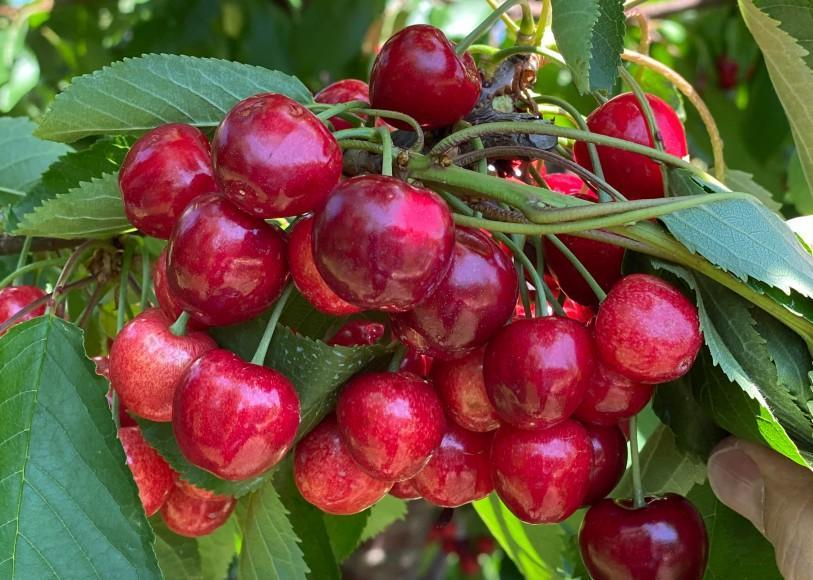apple: (311, 174, 454, 321), (174, 347, 301, 481), (209, 93, 341, 218), (394, 231, 516, 358), (170, 205, 287, 325), (334, 368, 447, 480), (371, 24, 480, 137), (107, 306, 212, 423), (595, 272, 704, 384), (575, 92, 689, 198), (485, 317, 592, 429), (578, 489, 709, 580), (118, 124, 219, 233), (491, 425, 593, 520), (295, 423, 392, 518), (1, 284, 48, 328)
